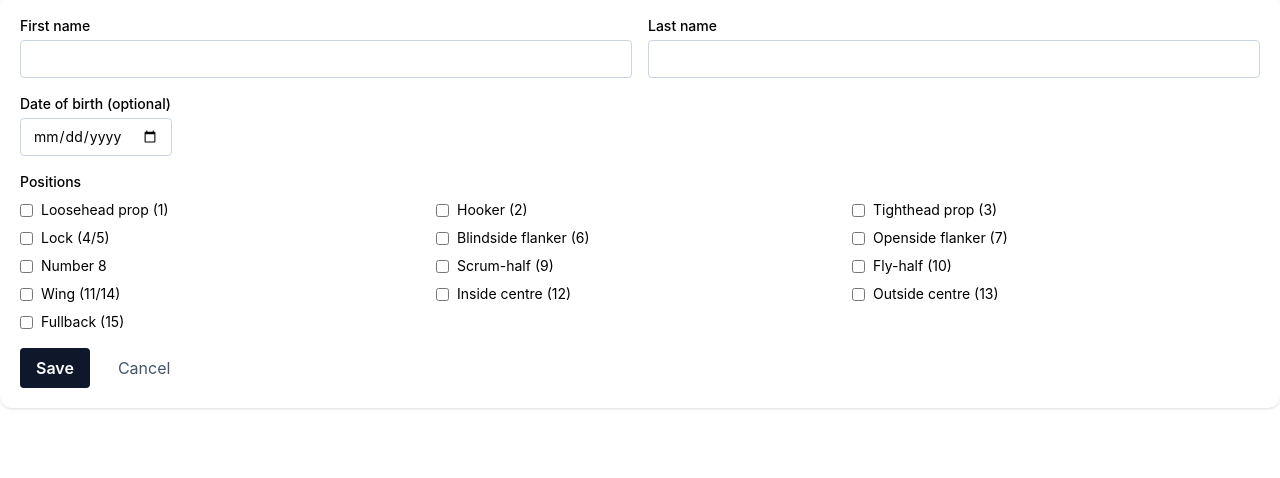
Test: PlayerForm › refuses to submit without a position
Type "Thomas" into the field labelled "First name" at (326, 59), box [20, 40, 632, 78]
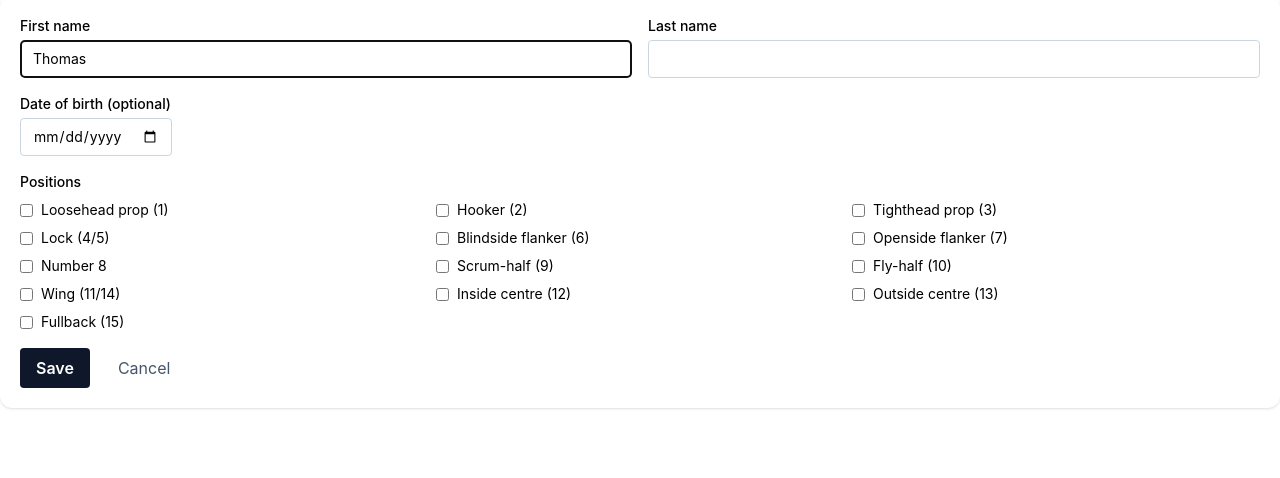
Type "Lefevre" into the field labelled "Last name" at (954, 59), box [648, 40, 1260, 78]
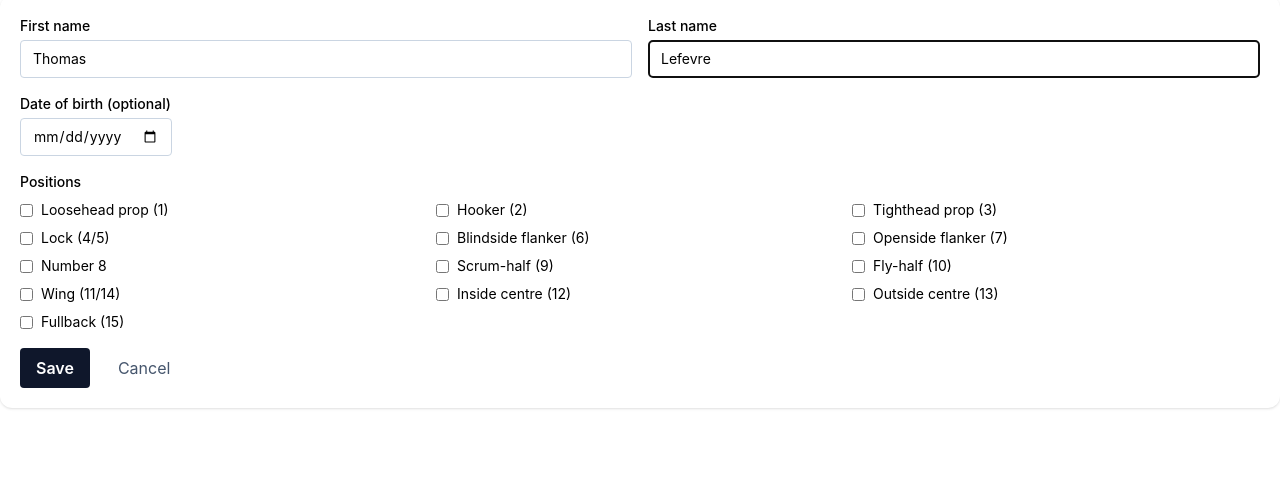
Click the button "Save" at (55, 368), box [20, 348, 90, 388]
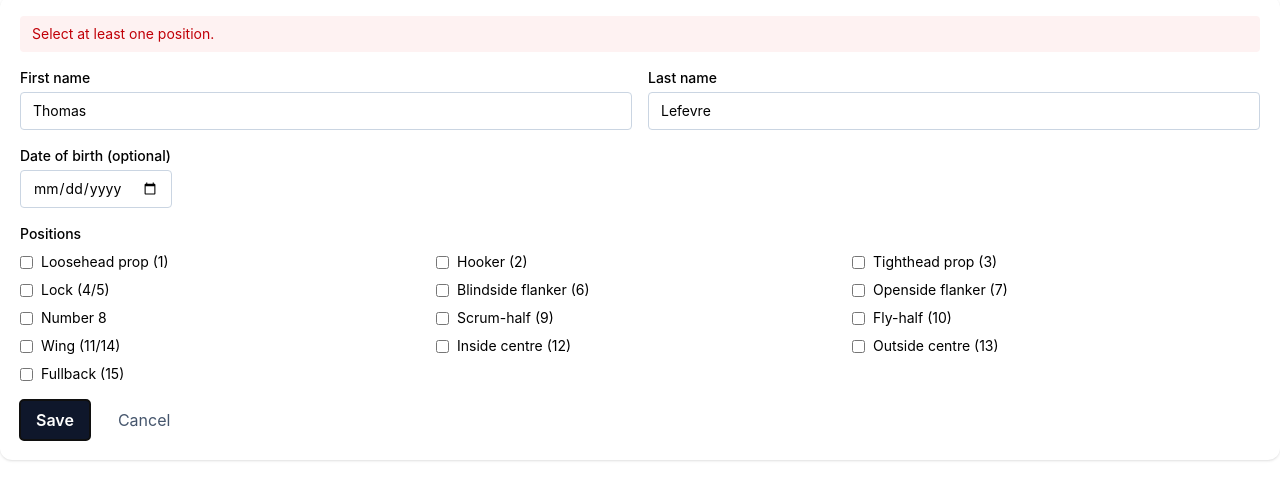
Expected: the message shows "position", [32, 25, 214, 42]
